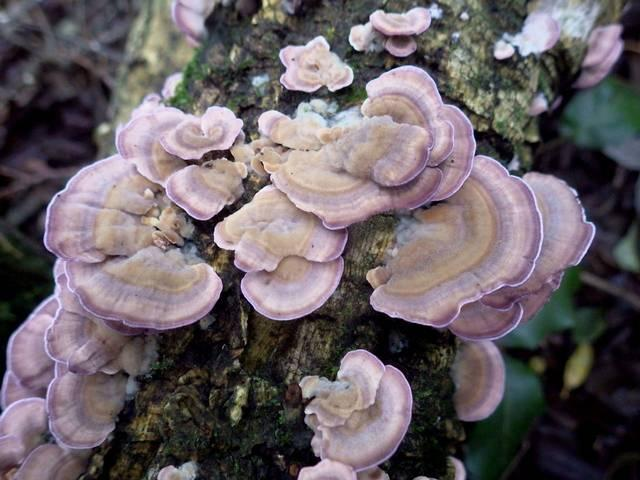poisonous_mushroom: (3, 4, 640, 318), (3, 279, 159, 480), (295, 347, 413, 477), (445, 305, 501, 477)
